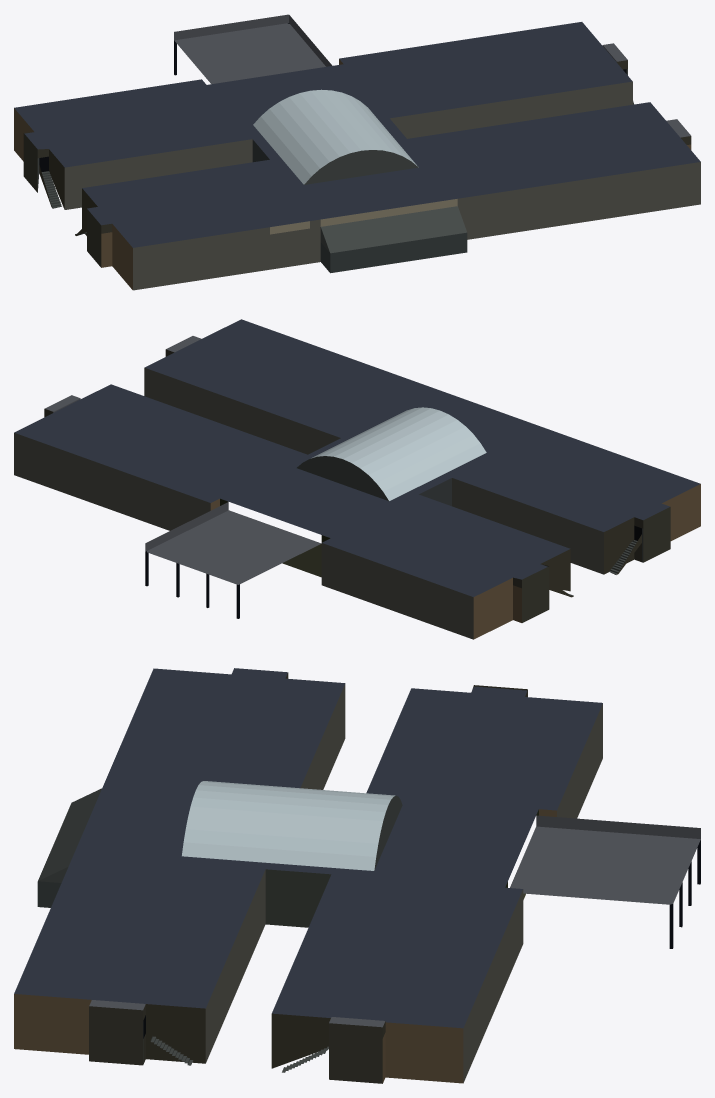
File: chattanooga-choo-choo-hotel-1.glb
The picture shows the model from 3 angles, top to bottom: view 1: azimuth 30°, elevation 25°; view 2: azimuth 150°, elevation 25°; view 3: azimuth 270°, elevation 25°; orthographic projection. The views are drawn at different scales.
Visible parts, largest first — view 1: LOD0; view 2: LOD0; view 3: LOD0.
Boxes of the visible parts, x1,y1,x2,y2 form: LOD0: (14, 14, 700, 290); LOD0: (14, 319, 700, 639); LOD0: (14, 668, 700, 1083).
Size of what is drawn, in the model's own units: 85.41 by 9.76 by 68.77.
2 materials, 2 textured.
